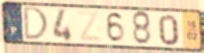0: (157, 13, 181, 47)
4: (52, 7, 74, 44)
6: (105, 11, 127, 44)
8: (131, 10, 153, 47)
D: (23, 6, 50, 42)
Z: (75, 10, 103, 44)
